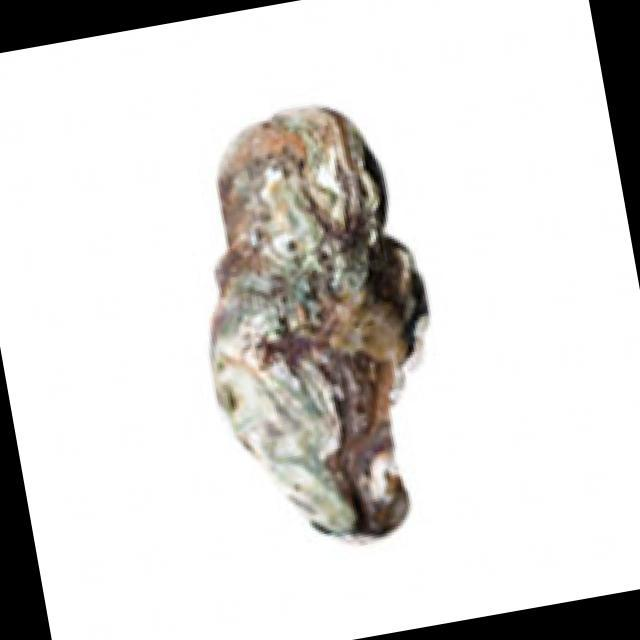Oyster- Indeterminate: (209, 106, 430, 543)
